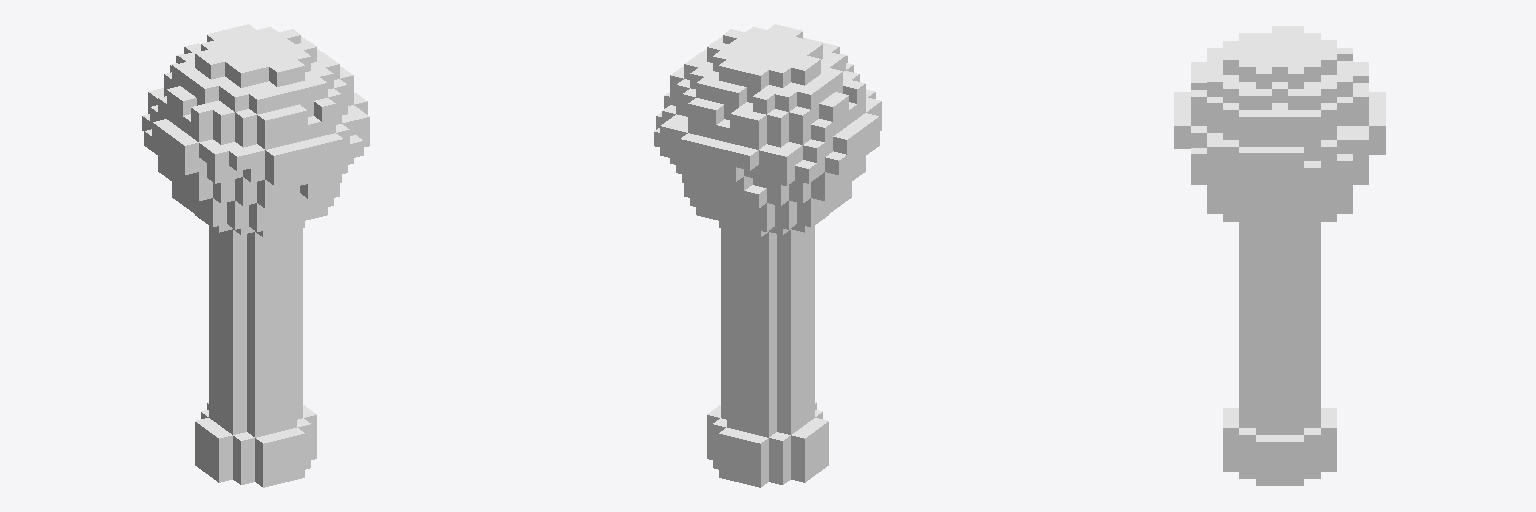
File: NewTree.obj
3 views of the same model, side by side, from view 1: azimuth 30°, elevation 25°; view 2: azimuth 150°, elevation 25°; view 3: azimuth 270°, elevation 25° (orthographic).
Visible parts, largest first — view 1: NewTree; view 2: NewTree; view 3: NewTree.
Part boxes in pixels (left/top/right/bottom): NewTree: left=142, top=24, right=369, bottom=487; NewTree: left=654, top=24, right=881, bottom=487; NewTree: left=1174, top=26, right=1385, bottom=485.
Bounding box in the file's own units: 13 × 28 × 13.